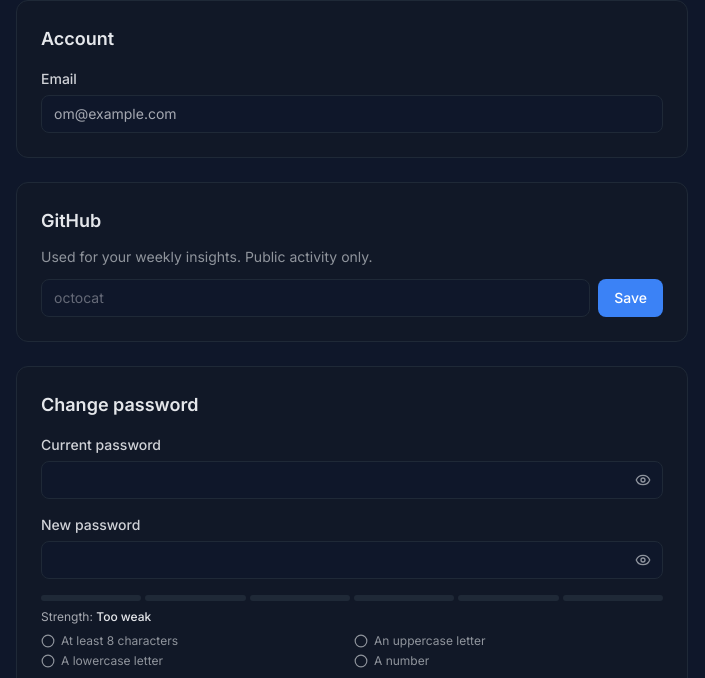
Test: SettingsPage › changes the password and keeps the fresh session
This screenshot has width=705, height=678.
In the password field labelled "Current password": (352, 480) [41,461,663,499], type "Correct-Horse-9"
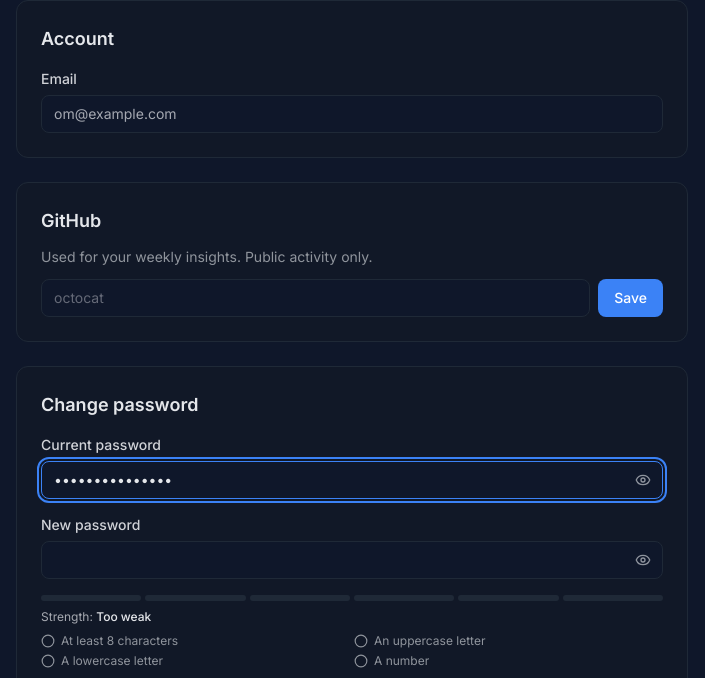
In the password field labelled "New password": (352, 560) [41,541,663,579], type "Brand-New-Pass-7"
(page scrolled)
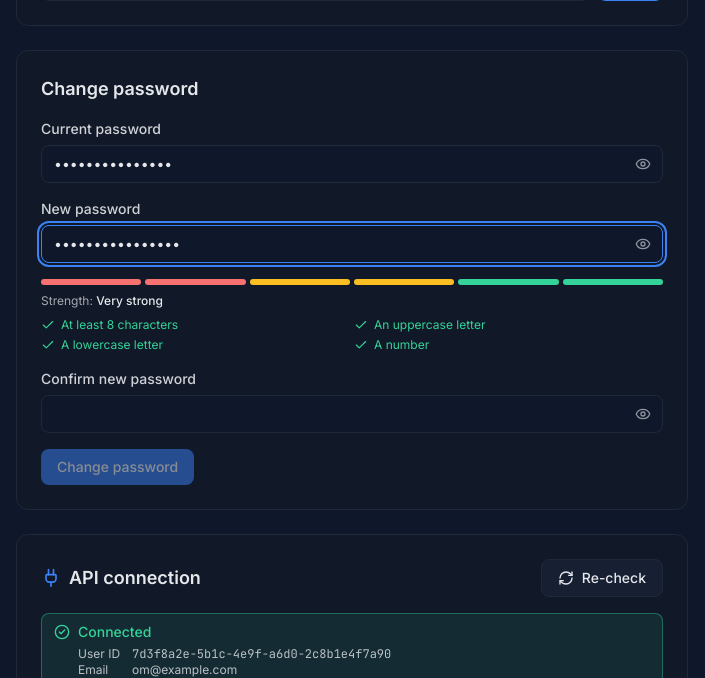
In the password field labelled "Confirm new password": (352, 414) [41,395,663,433], type "Brand-New-Pass-7"
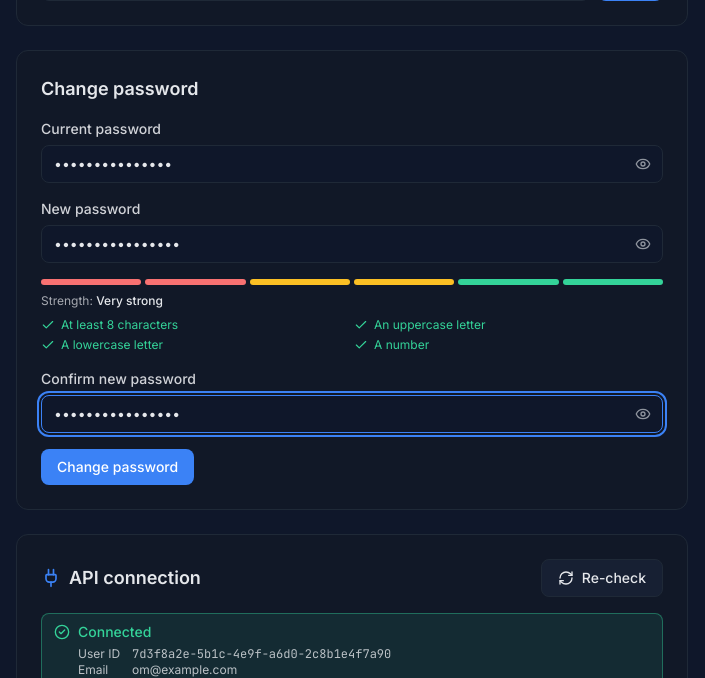
Click the button "Change password": (118, 467) [41,449,194,485]
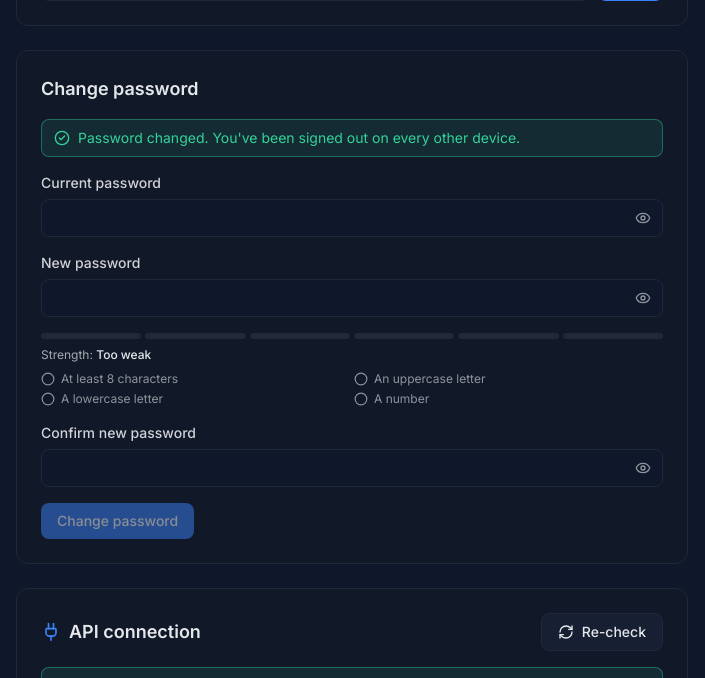
Expected: the text "signed out on every other device" is shown, [78,129,520,146]
